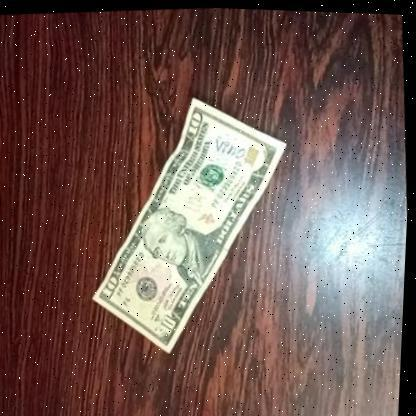ten-front: (76, 86, 306, 362)
